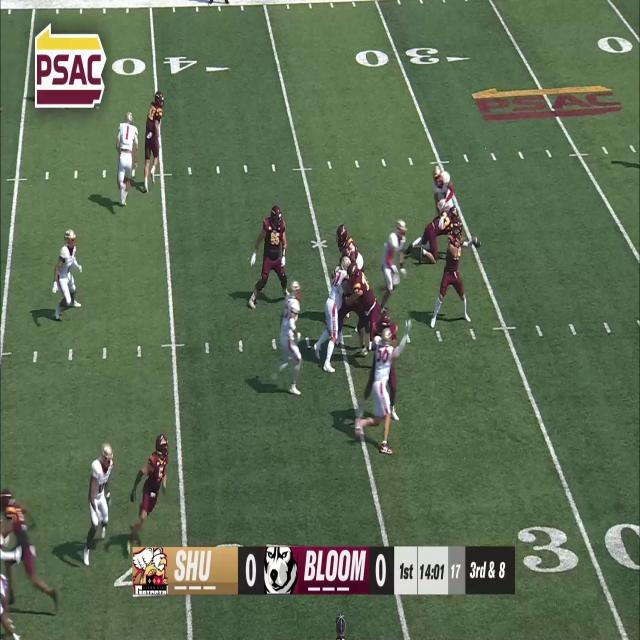football: (471, 234, 483, 248)
